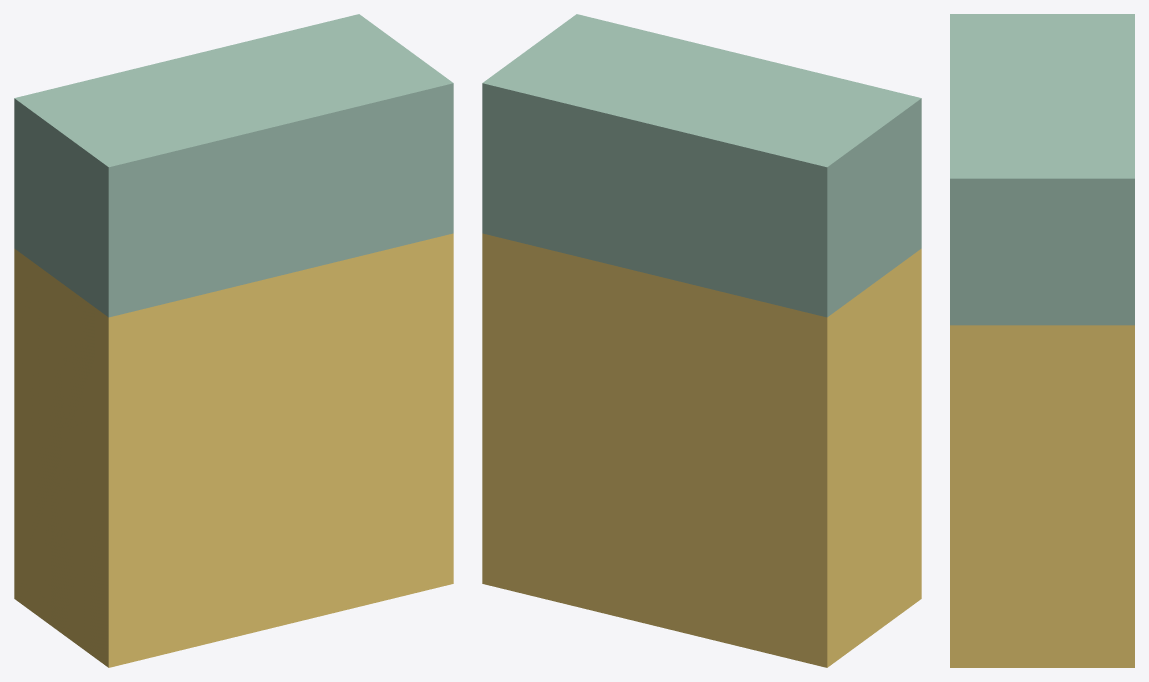
File: Ürün56.fbx
3 views of the same model, side by side, from view 1: azimuth 30°, elevation 25°; view 2: azimuth 150°, elevation 25°; view 3: azimuth 270°, elevation 25° (orthographic). The views are drawn at different scales.
Visible parts, largest first — view 1: pCube91; view 2: pCube91; view 3: pCube91.
Boxes of the visible parts, left/top/right/bottom form: pCube91: left=14, top=14, right=453, bottom=667; pCube91: left=482, top=14, right=921, bottom=667; pCube91: left=950, top=14, right=1134, bottom=667.
Bounding box in the file's own units: 23.51 × 32.6 × 11.16.
